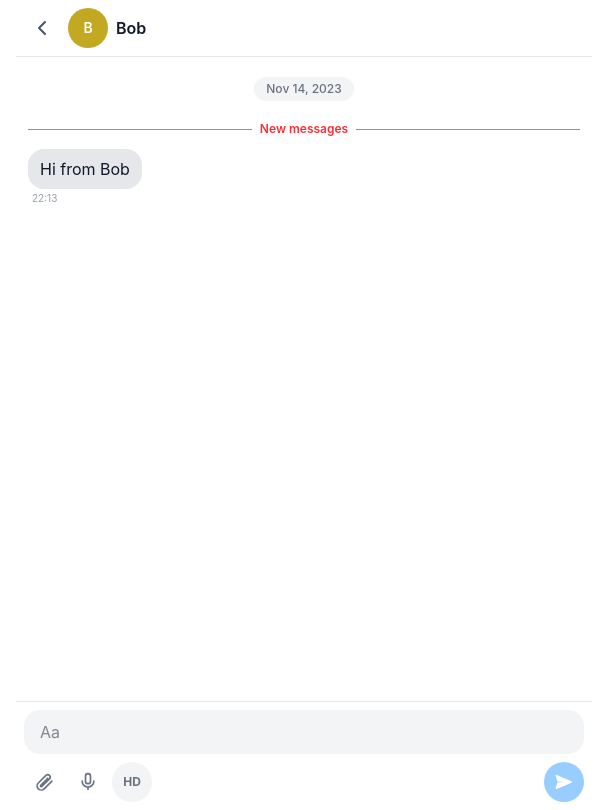
Test: ChatPage › sends a message: POSTs { content } and appends the returned message
Expected: the text "Hi from Bob" is shown, [40,157,130,181]
In the text box with placeholder "Aa": coordinates (304, 732) [24,710,584,754], type "A brand new message"
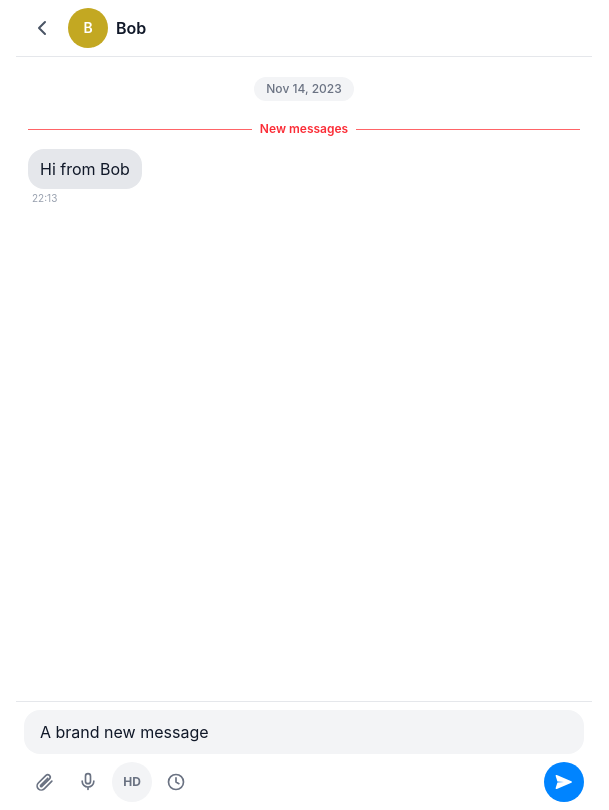
Click the button named "send": coordinates (564, 782) [544,762,584,802]
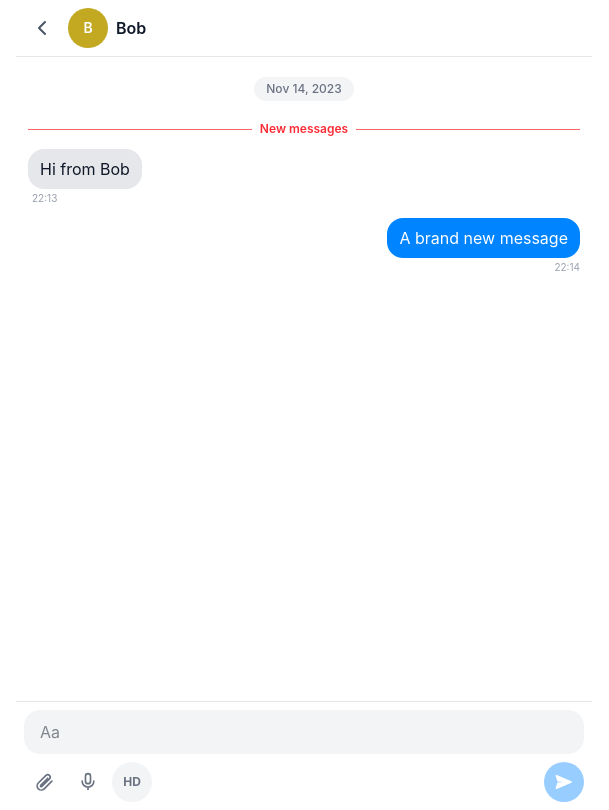
Result: the text "A brand new message" is shown at [400,226,568,250]
